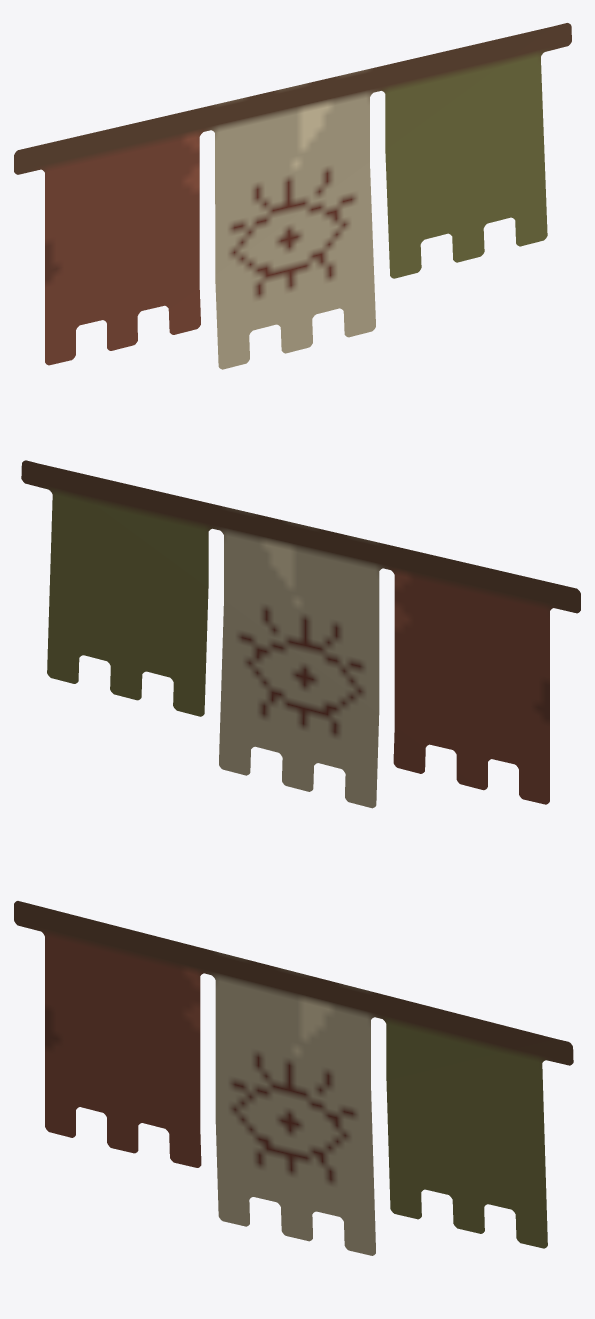
The model's file is SM_Pennants_Stick.fbx.
The picture shows the model from 3 angles, top to bottom: view 1: azimuth 30°, elevation 25°; view 2: azimuth 150°, elevation 25°; view 3: azimuth 330°, elevation 25°; orthographic projection.
Parts seen in each view (by area): view 1: Pennants_Stick_Visual; view 2: Pennants_Stick_Visual; view 3: Pennants_Stick_Visual.
Boxes of the visible parts, left/top/right/bottom form: Pennants_Stick_Visual: left=14, top=23, right=571, bottom=369; Pennants_Stick_Visual: left=21, top=460, right=580, bottom=808; Pennants_Stick_Visual: left=14, top=901, right=573, bottom=1255.
Size of the model in its own units: 0.5709 by 0.27 by 0.00198.
